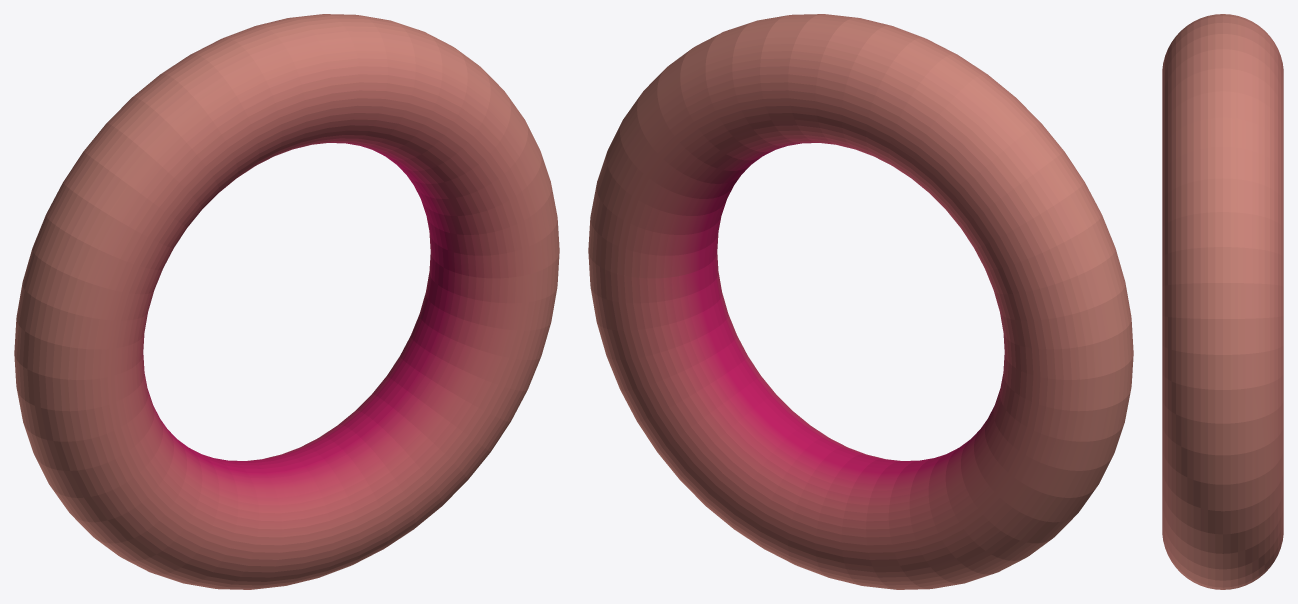
3 renders of one model, left to right at view 1: azimuth 30°, elevation 25°; view 2: azimuth 150°, elevation 25°; view 3: azimuth 270°, elevation 25°, orthographic. The views are drawn at different scales.
Visible parts, largest first — view 1: world; view 2: world; view 3: world.
Boxes of the visible parts, x1,y1,x2,y2 form: world: (14, 14, 559, 589); world: (588, 14, 1133, 589); world: (1162, 14, 1283, 589).
Size of the model in its own units: 32.13 by 32.07 by 6.79.
